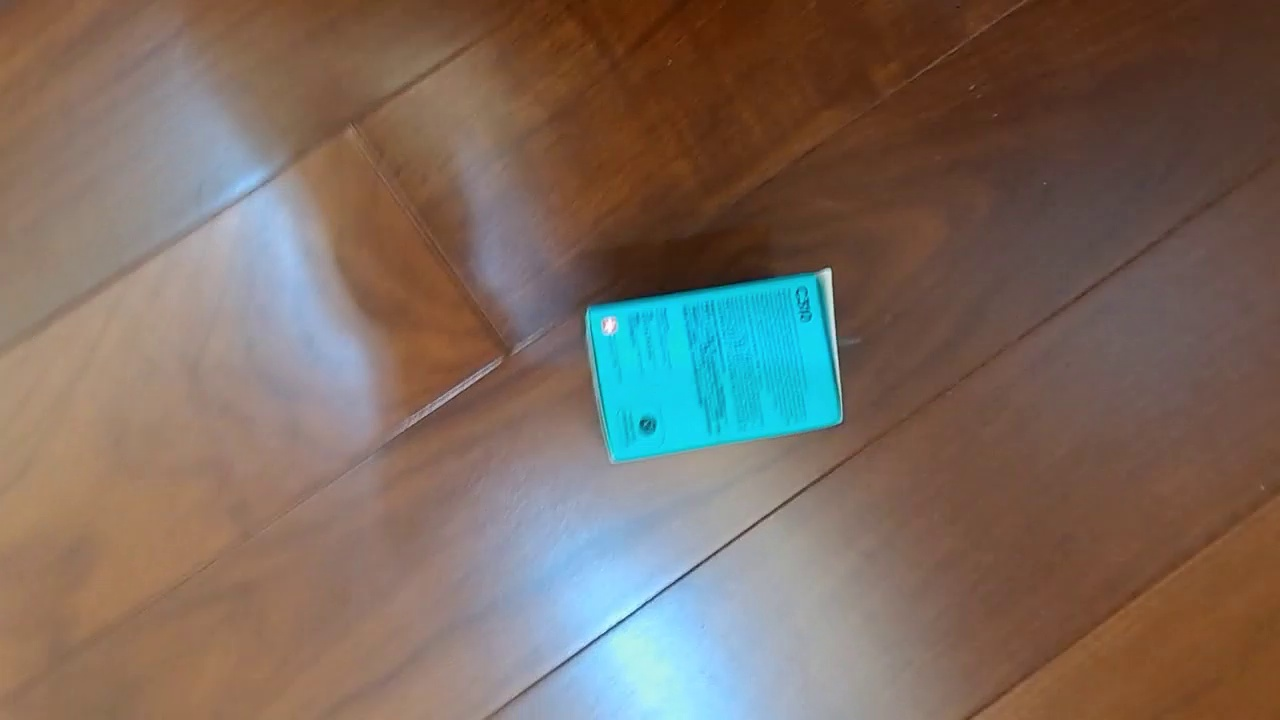webcam: (583, 264, 844, 465)
